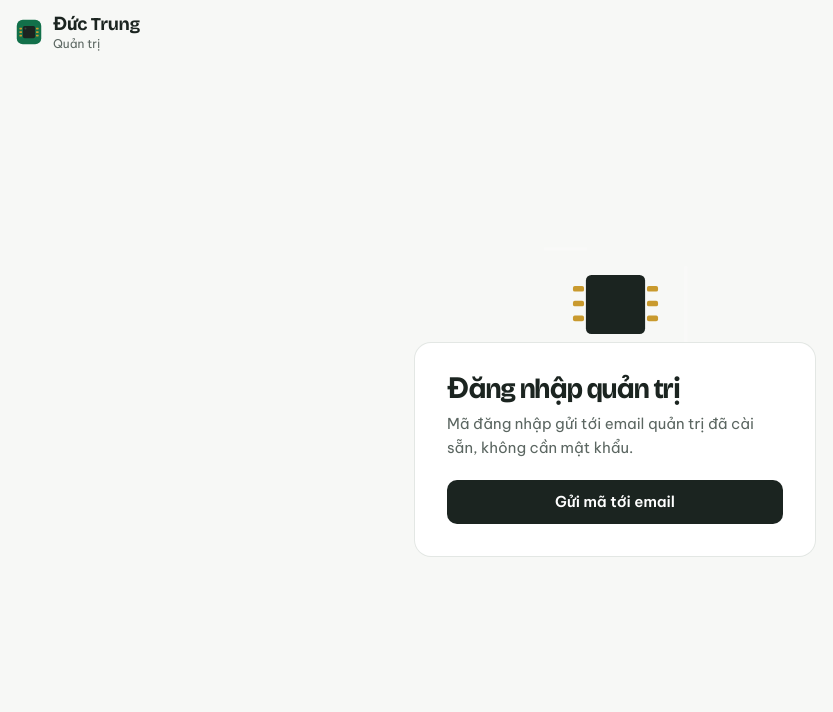
verifyCode lỗi → hiện trong role=alert, nút bật lại
Click the button "Gửi mã tới email".
click(615, 502)  # box x1=447 y1=480 x2=783 y2=524
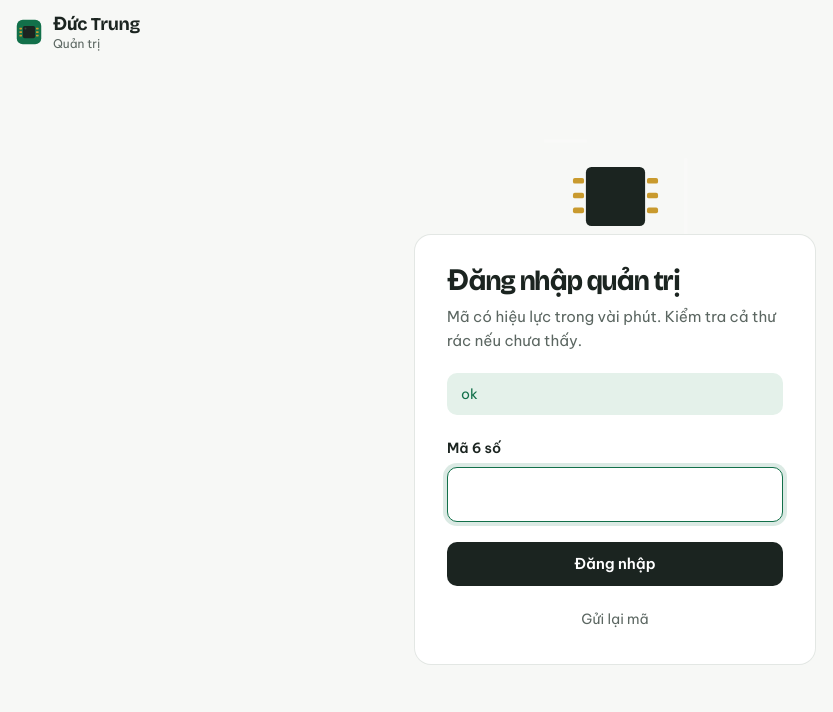
Type "000000" into the field labelled "Mã 6 số".
click(615, 494); type("000000")  # box x1=447 y1=467 x2=783 y2=522
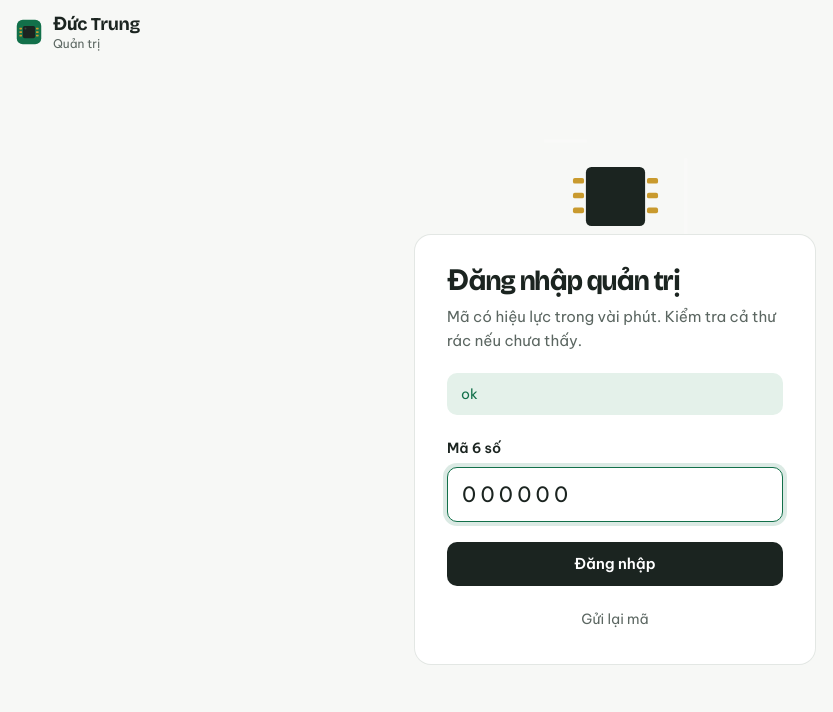
Click the button "Đăng nhập".
click(615, 564)  # box x1=447 y1=542 x2=783 y2=586
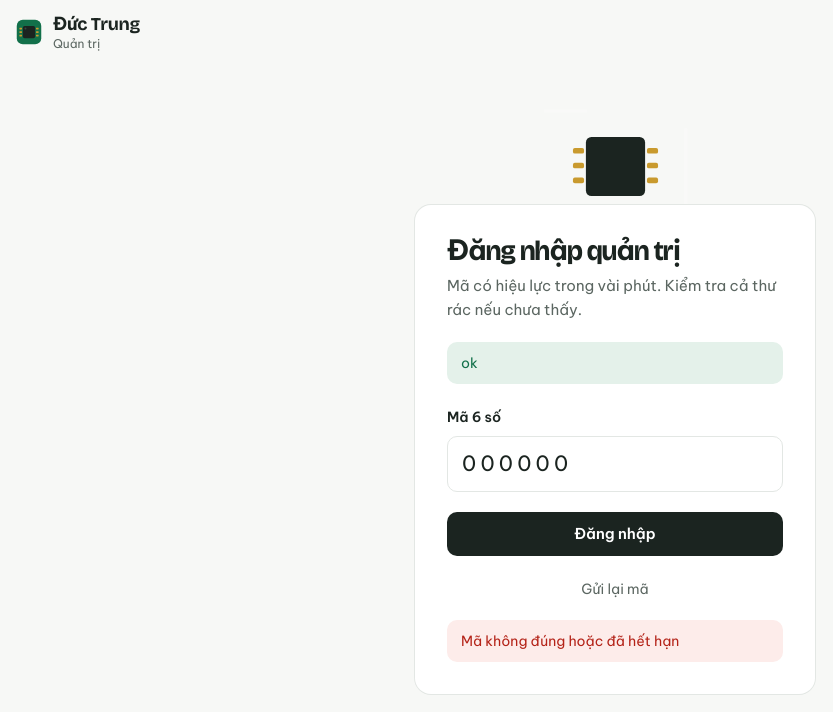
Check: the button "Đăng nhập" is enabled, box x1=447 y1=512 x2=783 y2=556
Check: the message reads "Mã không đúng hoặc đã hết hạn", box x1=461 y1=632 x2=679 y2=650
